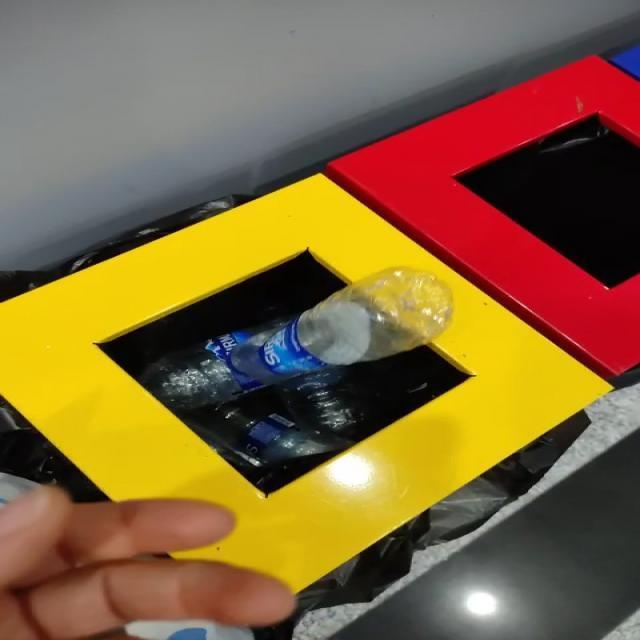Plastic: (139, 268, 453, 435)
